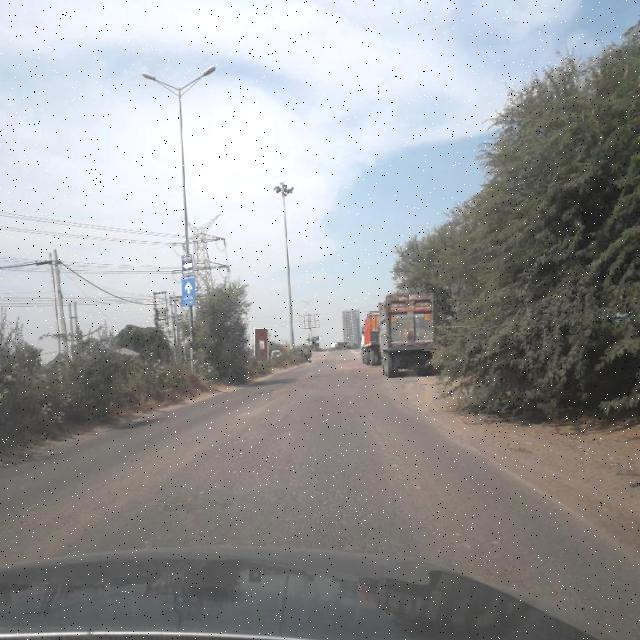D20: (263, 427, 428, 553)
D40: (252, 378, 304, 402)
